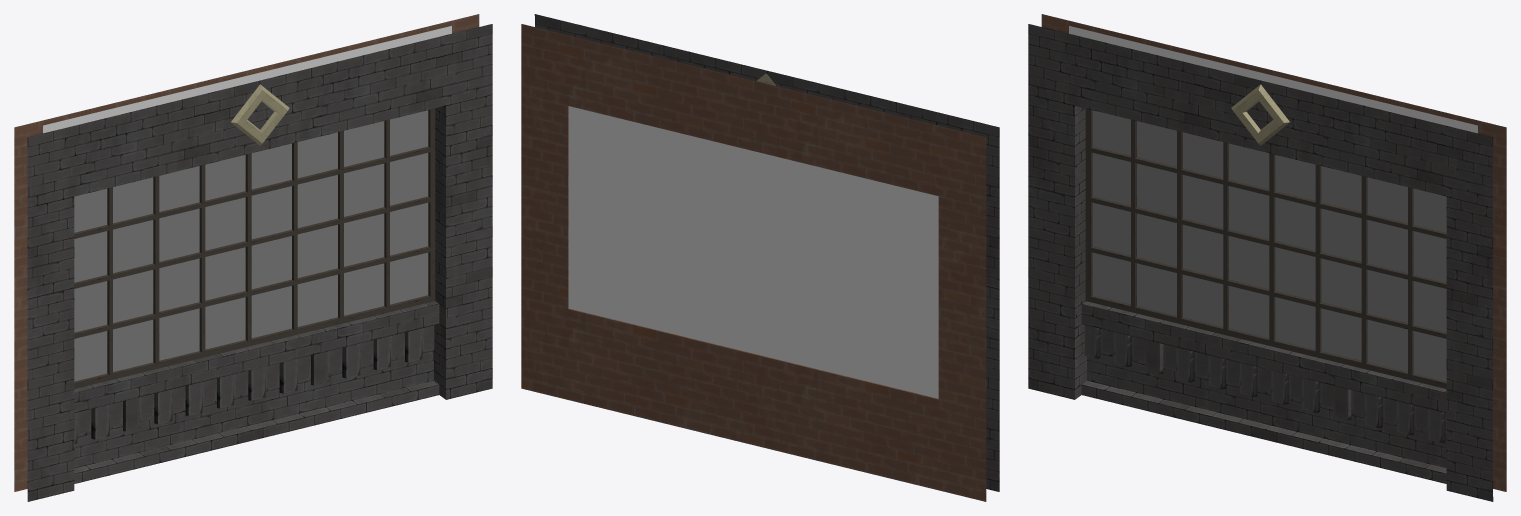
The model's file is WornBrick_WindowLarge_Top.gltf.
3 renders of one model, left to right at view 1: azimuth 30°, elevation 25°; view 2: azimuth 150°, elevation 25°; view 3: azimuth 330°, elevation 25°, orthographic.
Visible parts, largest first — view 1: WornBrick_WindowLarge_Top; view 2: WornBrick_WindowLarge_Top; view 3: WornBrick_WindowLarge_Top.
Boxes of the visible parts, left/top/right/bottom form: WornBrick_WindowLarge_Top: left=14, top=14, right=492, bottom=501; WornBrick_WindowLarge_Top: left=521, top=14, right=999, bottom=501; WornBrick_WindowLarge_Top: left=1028, top=14, right=1506, bottom=501.
Size of the model in its own units: 4 by 3 by 0.2347.
Materials: 6 (4 with a texture image).
